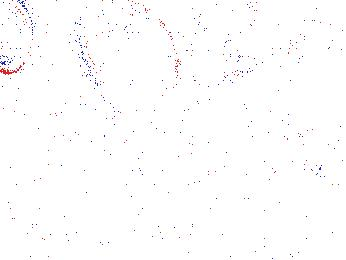moon jellyfish: (79, 1, 178, 114), (262, 129, 346, 219), (187, 1, 252, 91), (288, 38, 346, 111), (1, 1, 35, 74)
